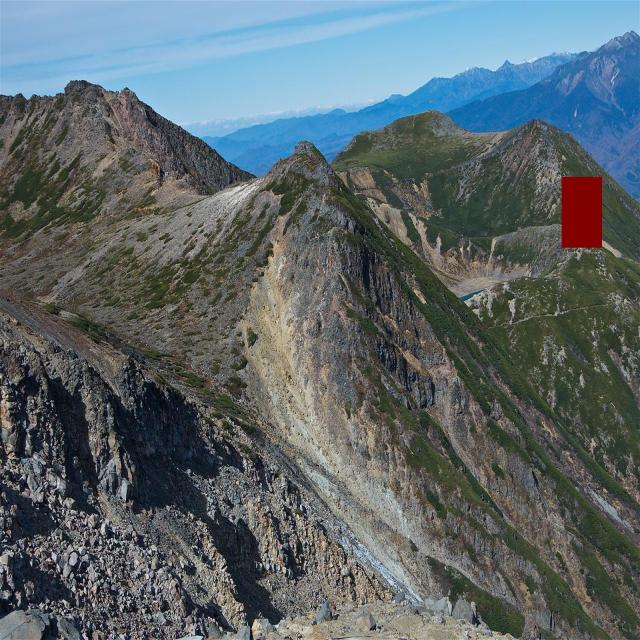RedSquare: (558, 170, 607, 262)
